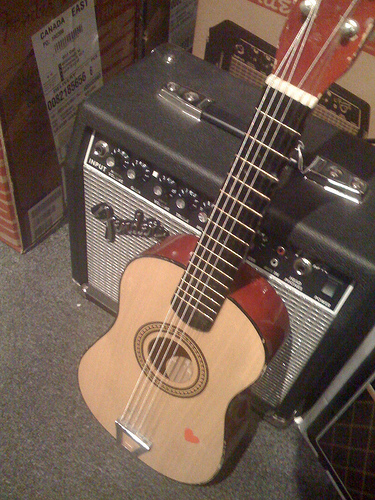guitar: (76, 1, 371, 487)
